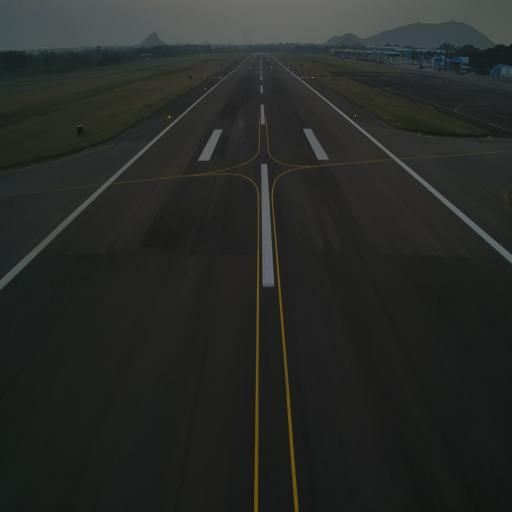on: (168, 115, 170, 119), (204, 87, 206, 91), (354, 113, 356, 117), (317, 86, 319, 90)
